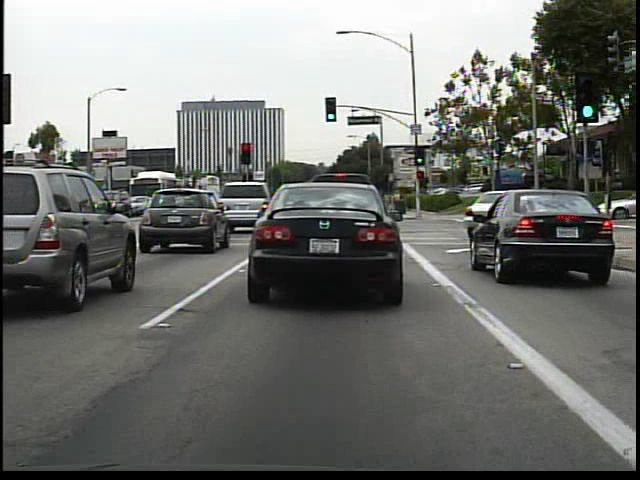person: (389, 183, 408, 216)
